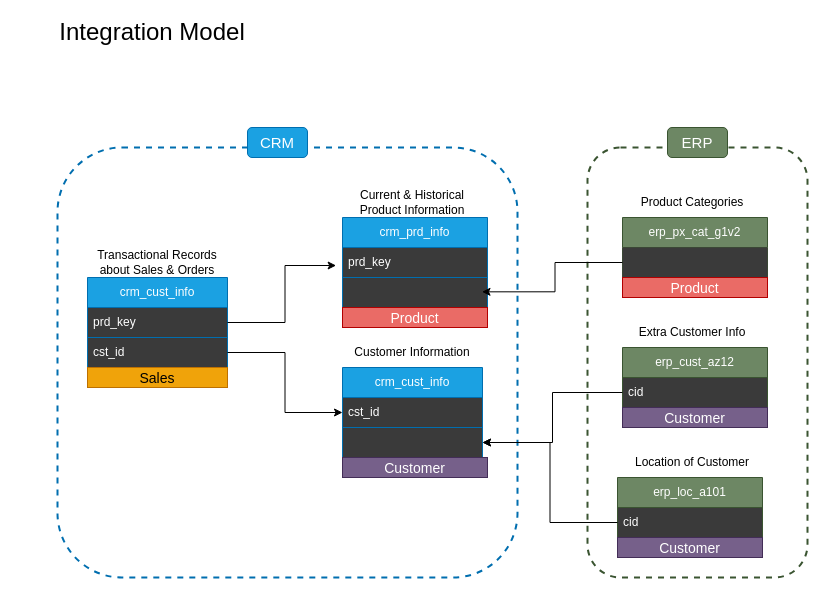
Some shapes in this 825 by 595 pixel diagram are drawn without their labels. The centre of each missing label's shape, as x and y in pixels:
cat_id: pixel 415 292
cst_key: pixel 412 442
id: pixel 694 262
